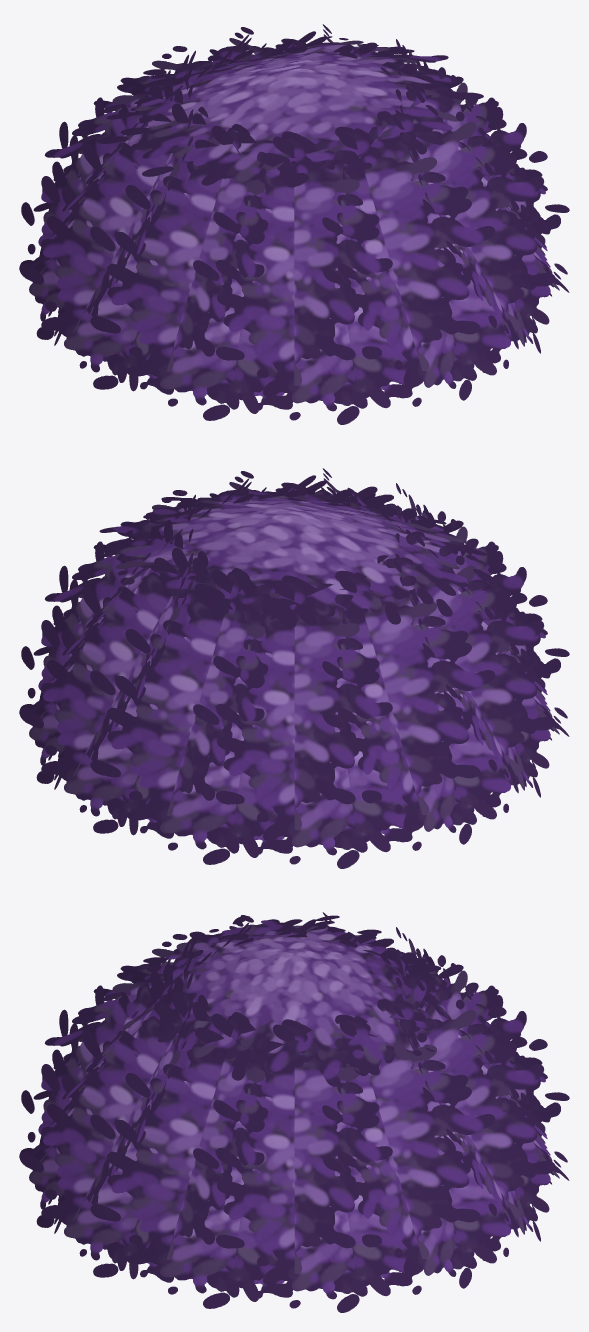
The model's file is HP3_bush041 1.fbx.
The picture shows the model from 3 angles, top to bottom: view 1: azimuth 30°, elevation 25°; view 2: azimuth 150°, elevation 25°; view 3: azimuth 270°, elevation 25°; orthographic projection.
Visible parts, largest first — view 1: HP3_bush041; view 2: HP3_bush041; view 3: HP3_bush041.
Part boxes in pixels (box(x1,y1,x2,y2)): HP3_bush041: box(19, 24, 569, 424); HP3_bush041: box(19, 468, 569, 868); HP3_bush041: box(19, 912, 569, 1312).
Bounding box in the file's own units: 13.21 × 6.45 × 13.21.
